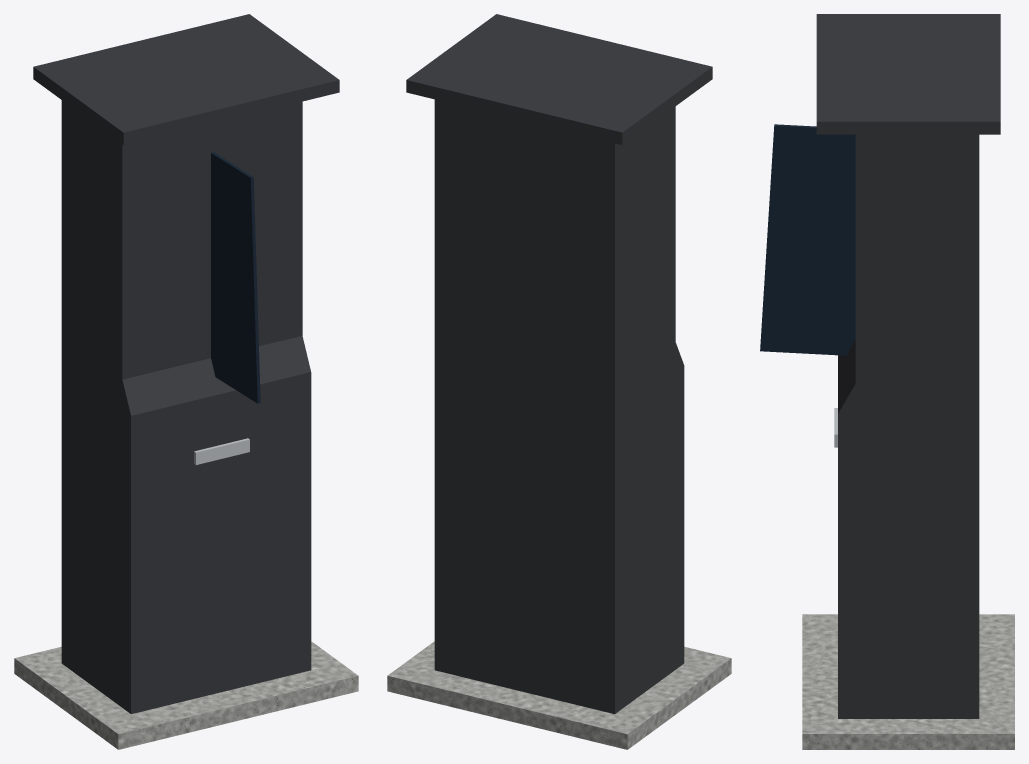
3 views of the same model, side by side, from view 1: azimuth 30°, elevation 25°; view 2: azimuth 150°, elevation 25°; view 3: azimuth 270°, elevation 25° (orthographic). The views are drawn at different scales.
Parts seen in each view (by area): view 1: baseOffset=0;depth=0.4;height=1.9;material=steel_dark;power= (×4); view 2: baseOffset=0;depth=0.4;height=1.9;material=steel_dark;power= (×2); view 3: baseOffset=0;depth=0.4;height=1.9;material=steel_dark;power= (×3).
Boxes of the visible parts, <box> form: baseOffset=0;depth=0.4;height=1.9;material=steel_dark;power= (×4): <box>14,14,358,749</box>; baseOffset=0;depth=0.4;height=1.9;material=steel_dark;power= (×2): <box>387,14,731,749</box>; baseOffset=0;depth=0.4;height=1.9;material=steel_dark;power= (×3): <box>760,14,1014,749</box>.
Bounding box in the file's own units: 0.8 × 0.7196 × 1.94.
Materials: 4 (1 with a texture image).
